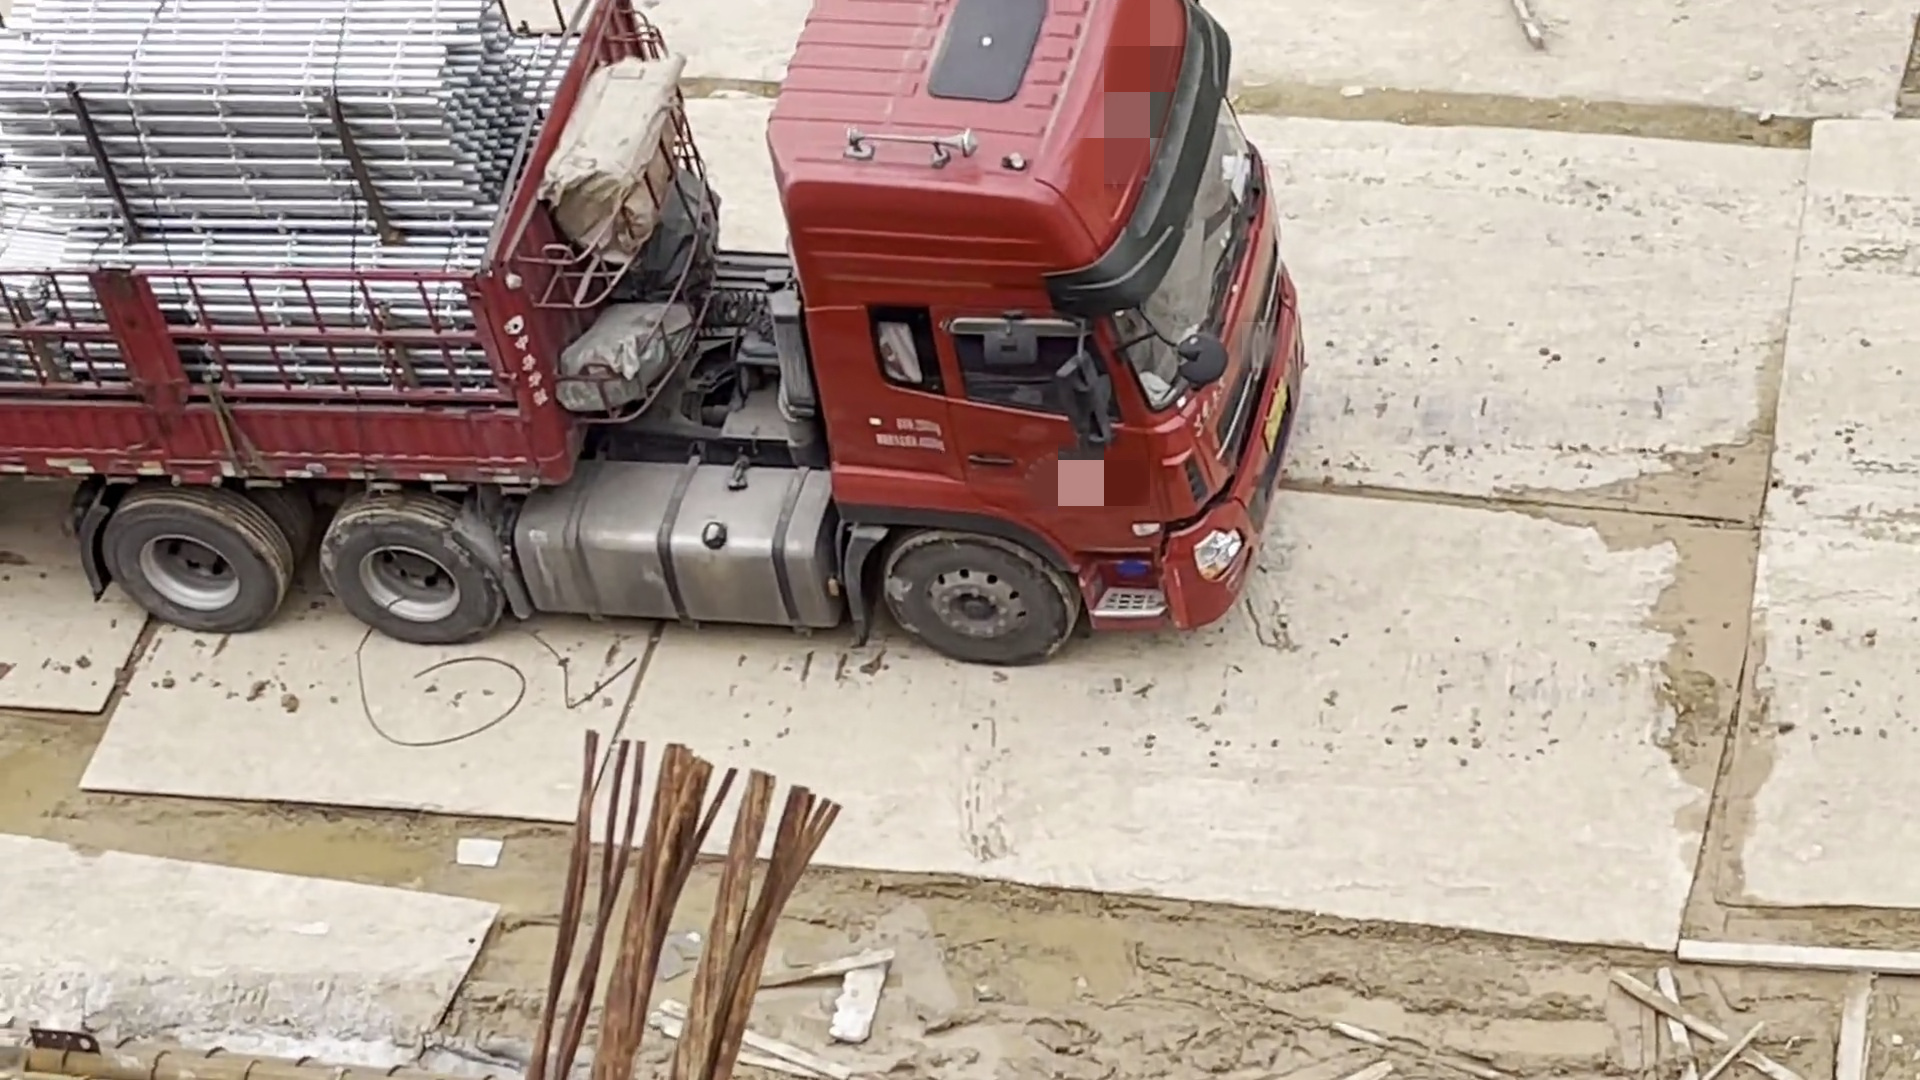scaffold: (1, 5, 568, 377)
